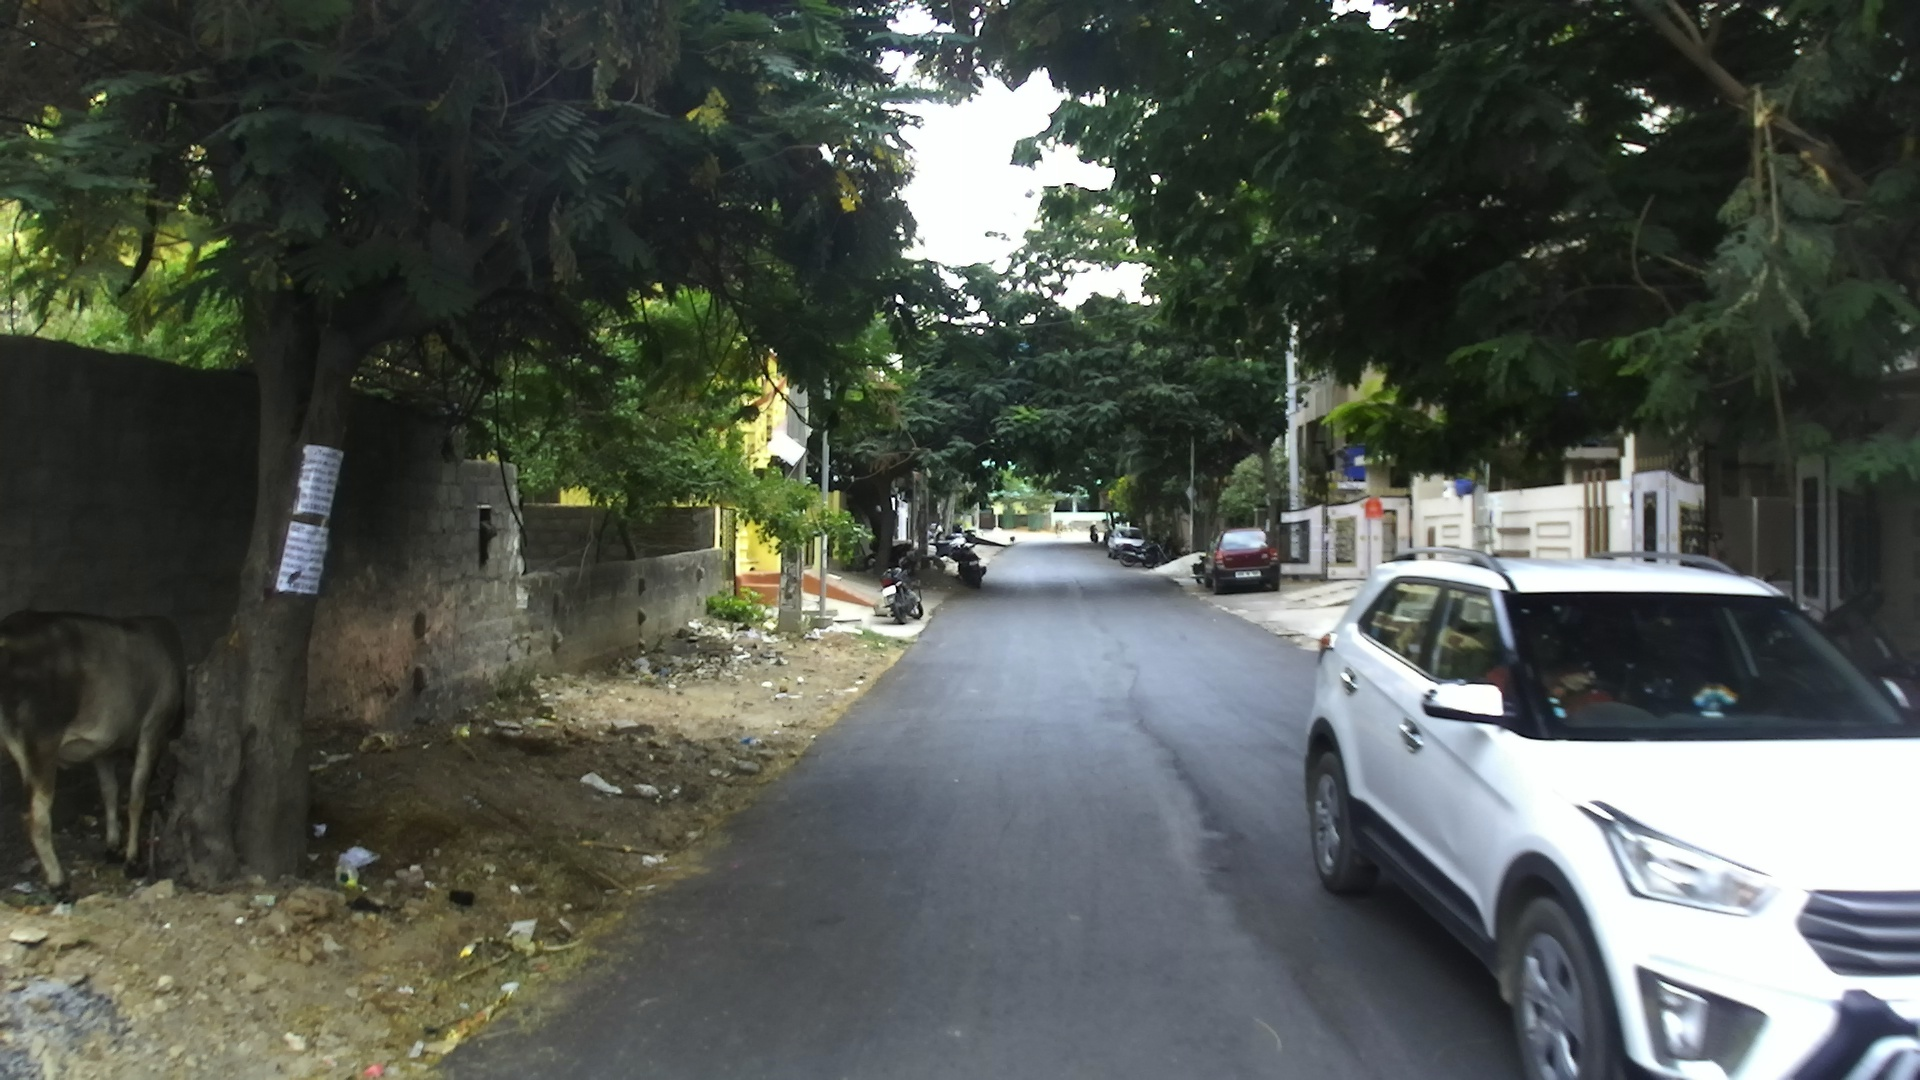vehicle: (1298, 549, 1919, 1077), (1209, 527, 1279, 593), (1105, 530, 1155, 566)
